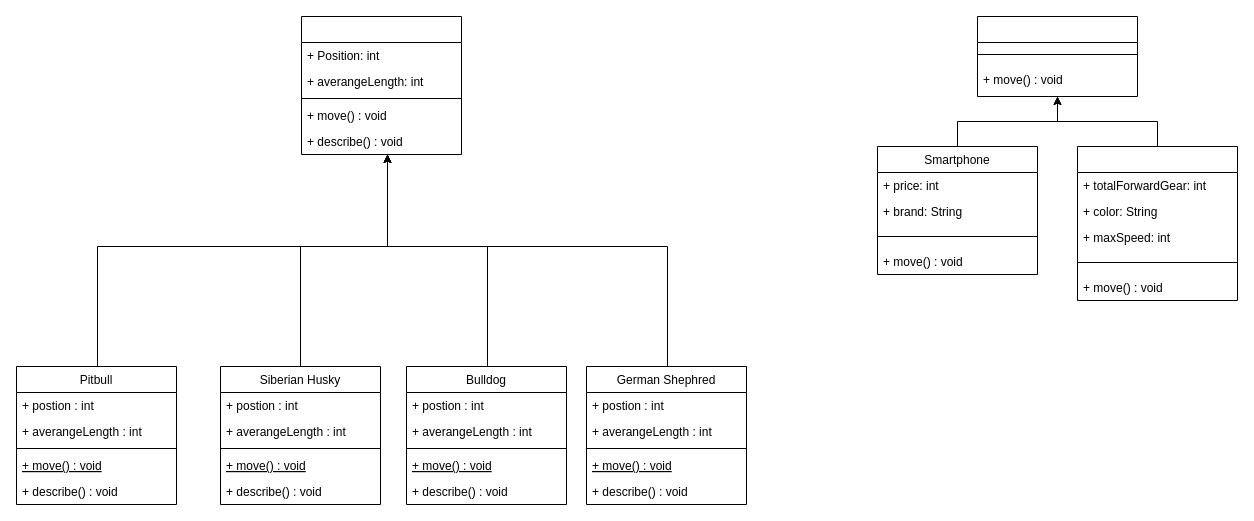
Image size: 1254x521. Some labels were removed from this diagram. The shapes that lost their labels are listed below. From the top down, each one's box as (x1, y1, x2, y2) in pixels, then its label:
(976, 16, 1138, 96): moveAble
(300, 16, 462, 154): Dog
(1076, 146, 1238, 300): Car
